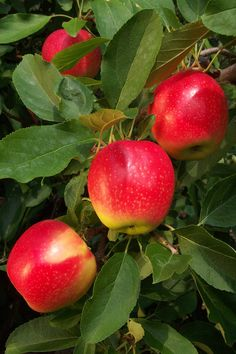Apple: (86, 131, 171, 237), (7, 220, 98, 313), (148, 68, 226, 159)
